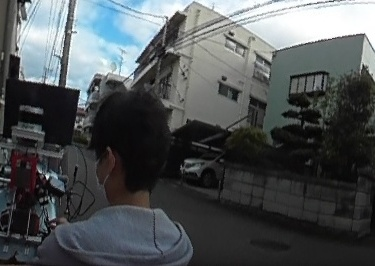person: (44, 89, 185, 266)
